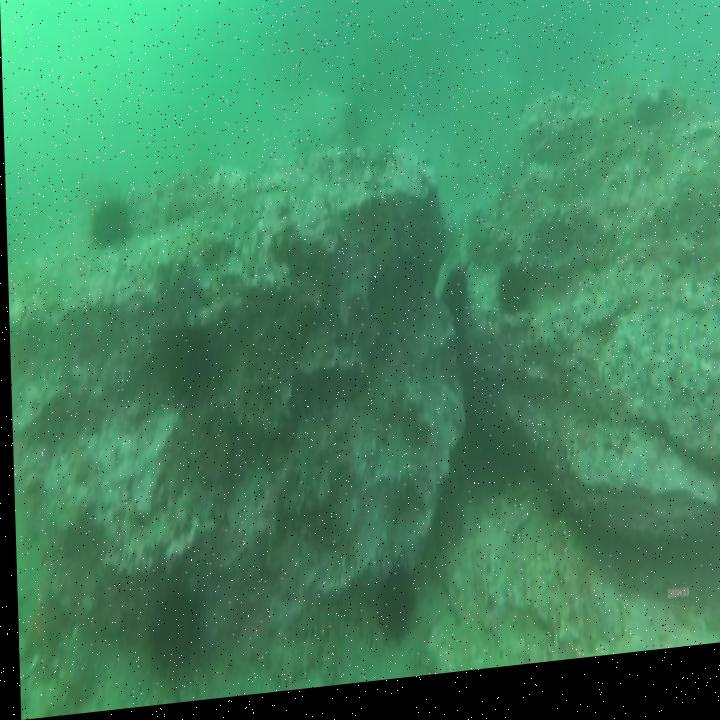echinus: (142, 594, 197, 677), (161, 329, 212, 404), (371, 579, 411, 655), (89, 201, 130, 247), (496, 276, 527, 329), (441, 278, 467, 325)
starfish: (16, 579, 58, 663)
